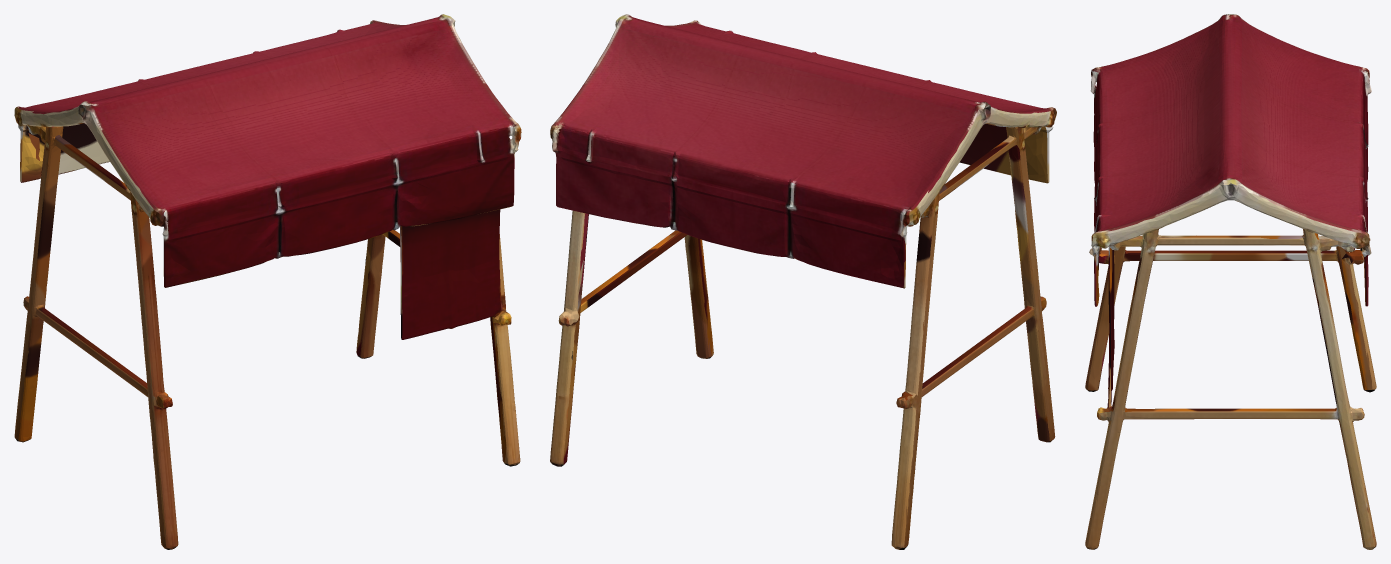
The model's file is traveler_env_coast_kamen_merchant_awning_00001_.glb.
3 renders of one model, left to right at view 1: azimuth 30°, elevation 25°; view 2: azimuth 150°, elevation 25°; view 3: azimuth 270°, elevation 25°, orthographic. The views are drawn at different scales.
Visible parts, largest first — view 1: temp_mesh.ply; view 2: temp_mesh.ply; view 3: temp_mesh.ply.
Part boxes in pixels (box(x1,y1,x2,y2)): temp_mesh.ply: box(14, 14, 521, 549); temp_mesh.ply: box(550, 14, 1056, 549); temp_mesh.ply: box(1085, 14, 1376, 549).
Bounding box in the file's own units: 1.87 × 1.9 × 1.35.
1 material, 1 textured.
